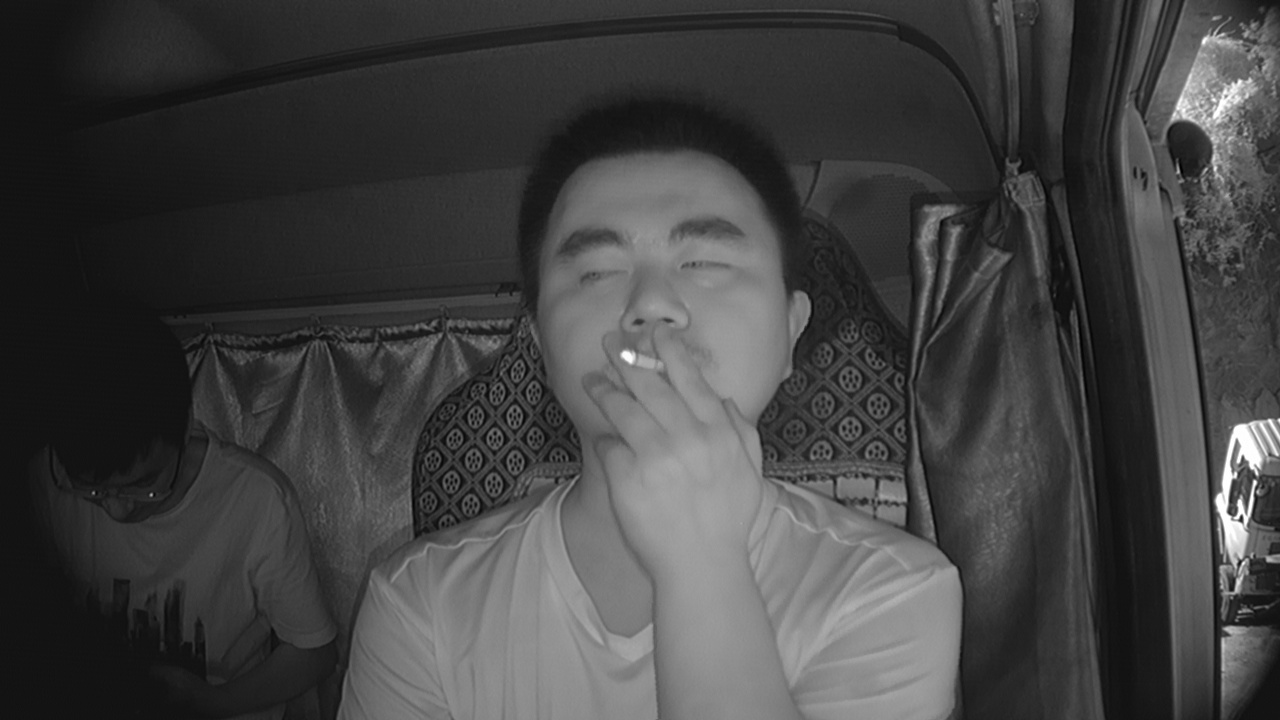hand: (580, 328, 752, 545)
